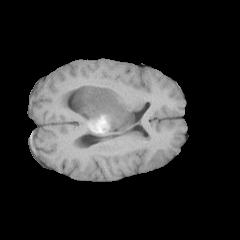glioma: (72, 85, 135, 135)
